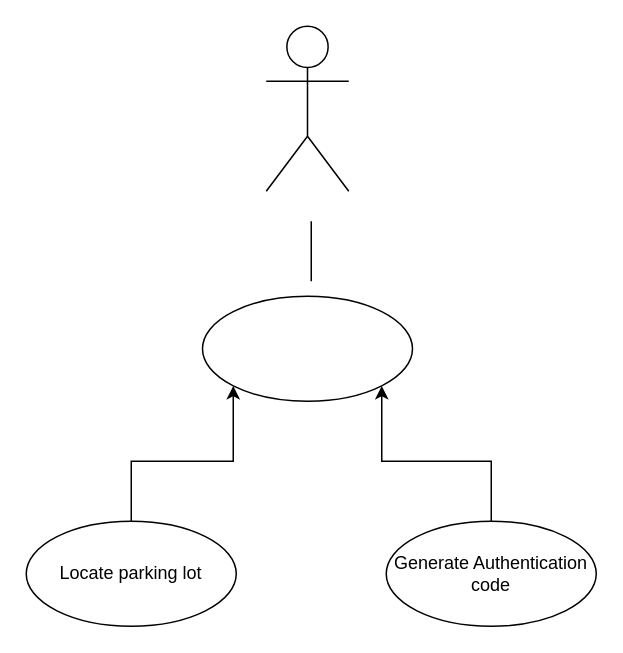
The diagram is 623 pixels wide and 653 high, and some of its shapes have lost their labels. Each missing label, with the box of its shape:
Customer: (265, 25, 349, 191)
Use reservation: (201, 295, 412, 401)
